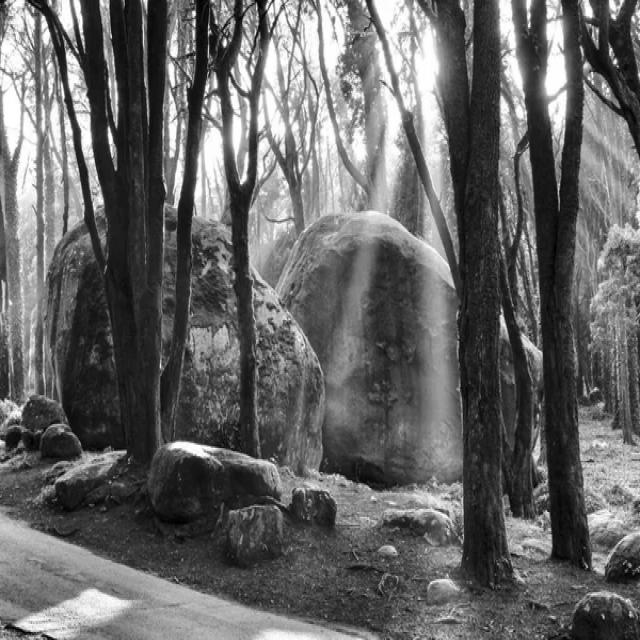Stone: (53, 210, 337, 470), (279, 201, 478, 495), (149, 437, 281, 525), (223, 502, 286, 556), (576, 586, 640, 639), (22, 396, 78, 456), (292, 480, 341, 523)
Tree: (427, 0, 514, 588), (514, 0, 591, 569), (79, 0, 167, 463), (210, 0, 272, 457), (161, 0, 208, 442)
